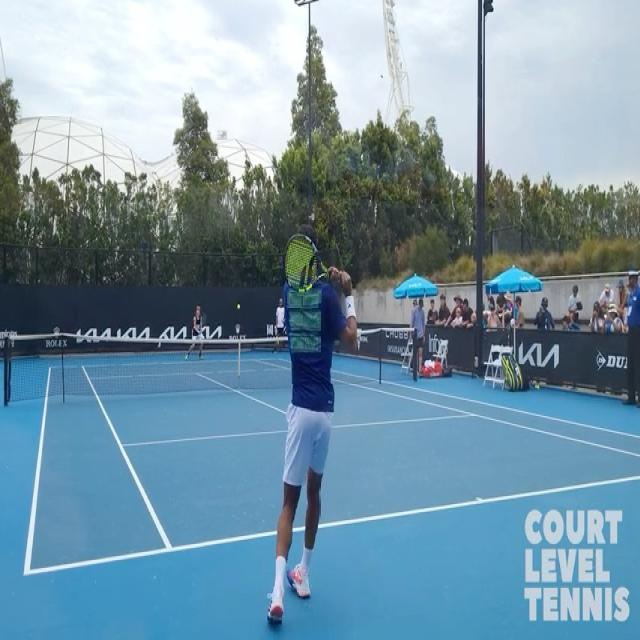backhand-finish: (262, 222, 368, 639)
